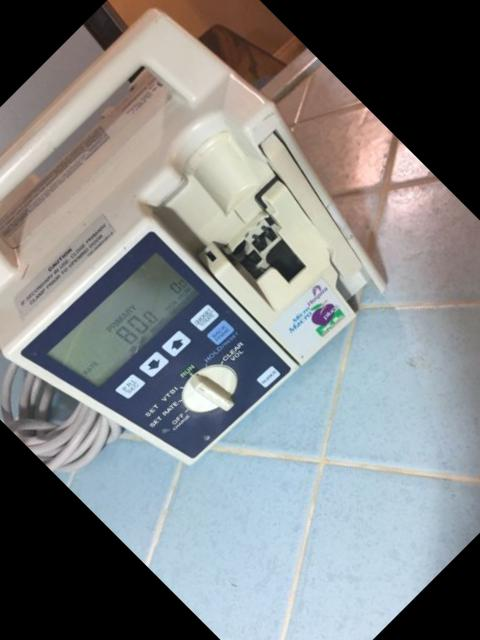plumxl1: (1, 8, 387, 464)
